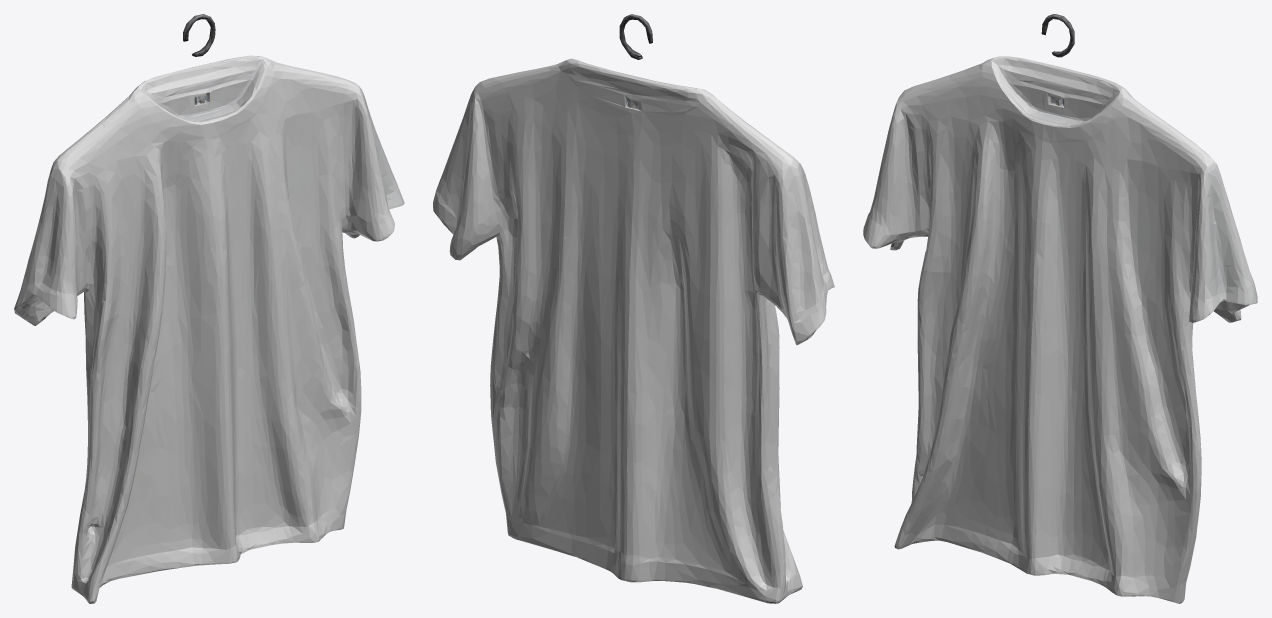
Rendered from shirt.glb.
The picture shows the model from 3 angles, left to right: view 1: azimuth 30°, elevation 25°; view 2: azimuth 150°, elevation 25°; view 3: azimuth 330°, elevation 25°; orthographic projection. The views are drawn at different scales.
Parts seen in each view (by area): view 1: world; view 2: world; view 3: world.
Boxes of the visible parts, <box> form: world: <box>14,14,404,603</box>; world: <box>433,14,834,603</box>; world: <box>863,14,1257,603</box>.
Size of the model in its own units: 0.739 by 0.9984 by 0.1478.
1 material, 1 textured.
